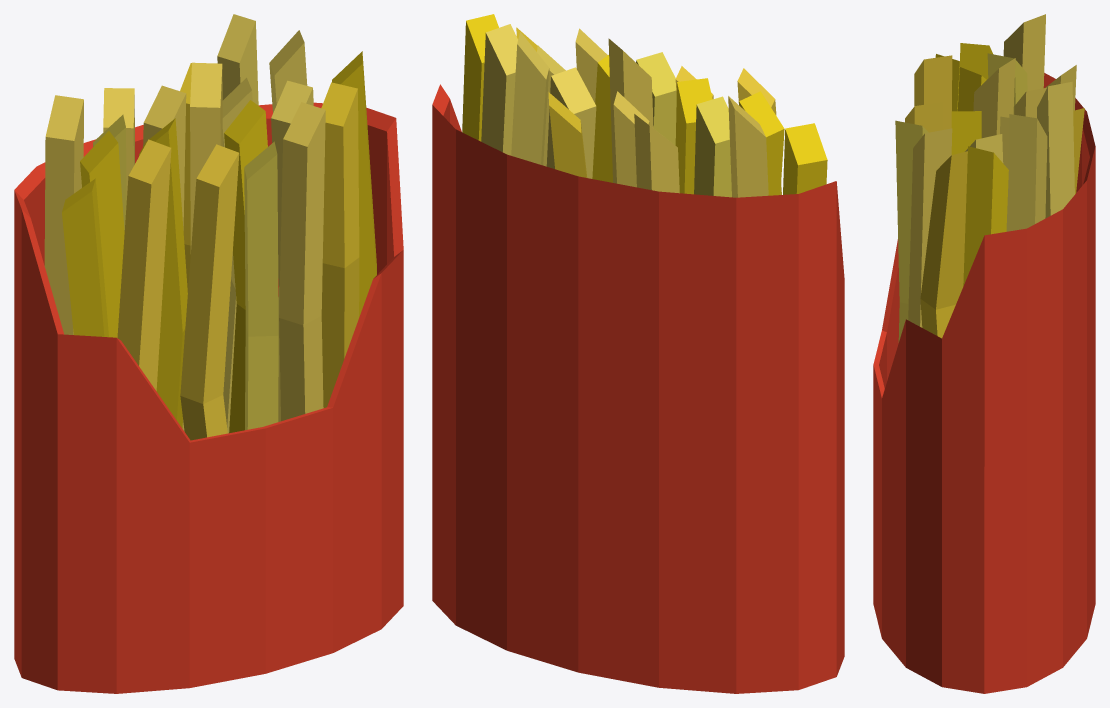
Rendered from kartoshkaFRI.fbx.
3 renders of one model, left to right at view 1: azimuth 30°, elevation 25°; view 2: azimuth 150°, elevation 25°; view 3: azimuth 270°, elevation 25°, orthographic. The views are drawn at different scales.
Parts seen in each view (by area): view 1: Circle; view 2: Circle; view 3: Circle.
Boxes of the visible parts, x1,y1,x2,y2 form: Circle: (14, 14, 403, 693); Circle: (432, 14, 844, 693); Circle: (873, 14, 1095, 693).
Bounding box in the file's own units: 25.7 × 37.28 × 13.49.
